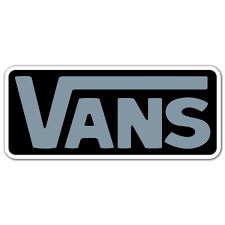vans: (14, 76, 211, 150)
